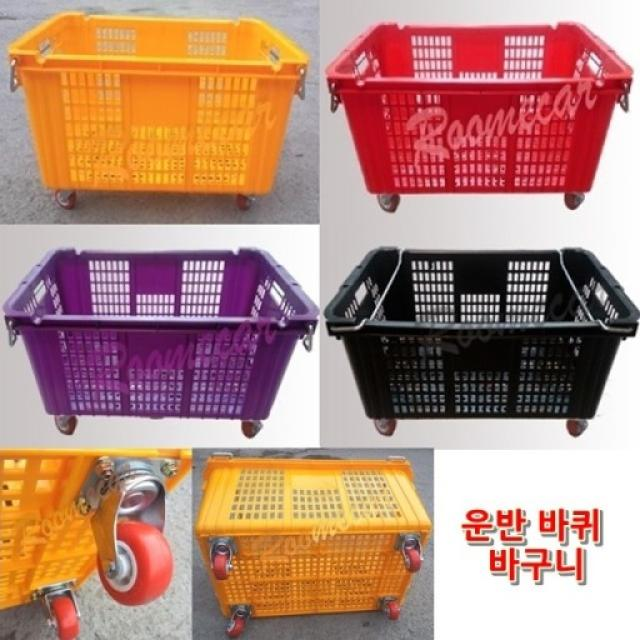basket: (328, 23, 634, 209), (2, 248, 320, 421), (194, 459, 433, 637), (0, 450, 191, 614)
